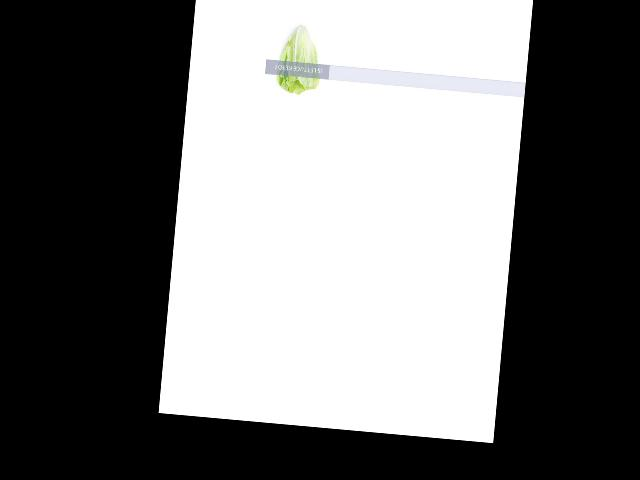lettuce: (271, 17, 326, 96)
